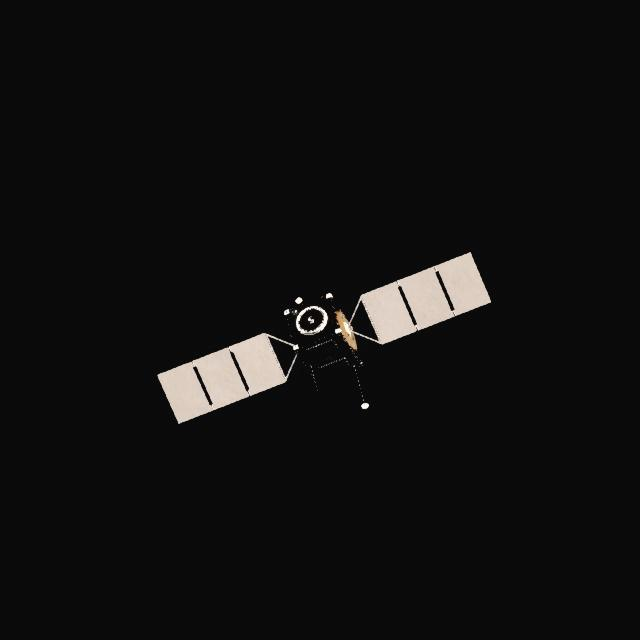medium_debris: (158, 253, 490, 425)
